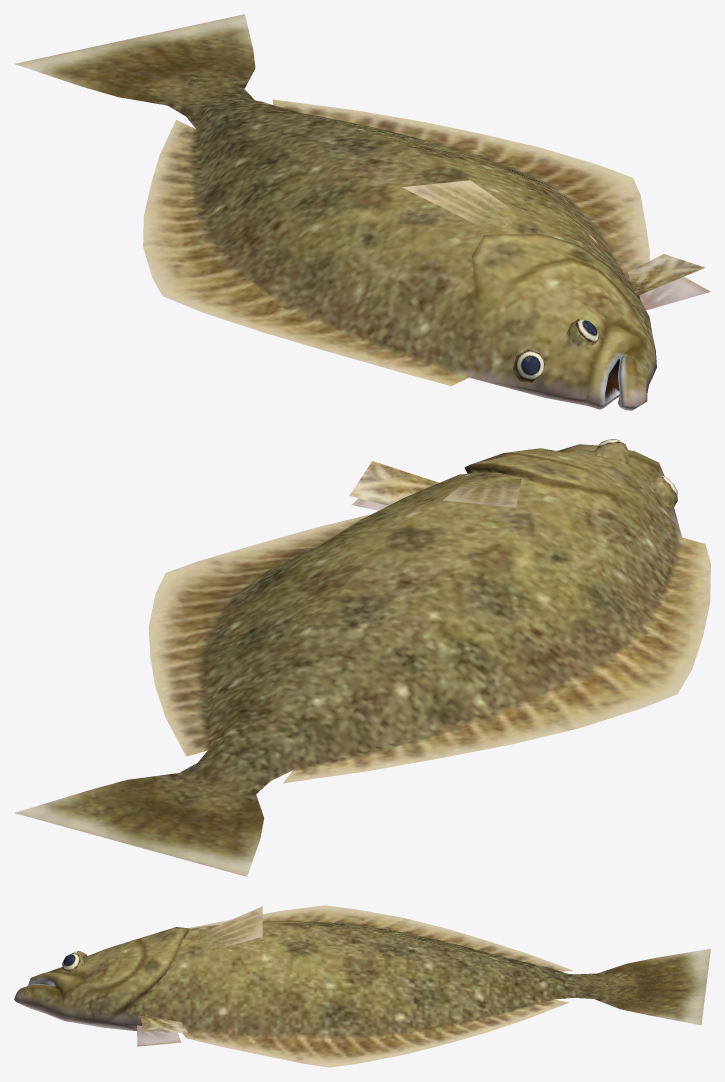
File: FishHirame.glb
The picture shows the model from 3 angles, top to bottom: view 1: azimuth 30°, elevation 25°; view 2: azimuth 150°, elevation 25°; view 3: azimuth 270°, elevation 25°; orthographic projection. The views are drawn at different scales.
Parts seen in each view (by area): view 1: FishHirame__mHirame; view 2: FishHirame__mHirame; view 3: FishHirame__mHirame.
Boxes of the visible parts, <box> form: FishHirame__mHirame: <box>15,14,710,410</box>; FishHirame__mHirame: <box>15,439,710,876</box>; FishHirame__mHirame: <box>14,905,710,1067</box>.
Size of the model in its own units: 7.33 by 2.19 by 13.3.
Materials: 1 (1 with a texture image).
